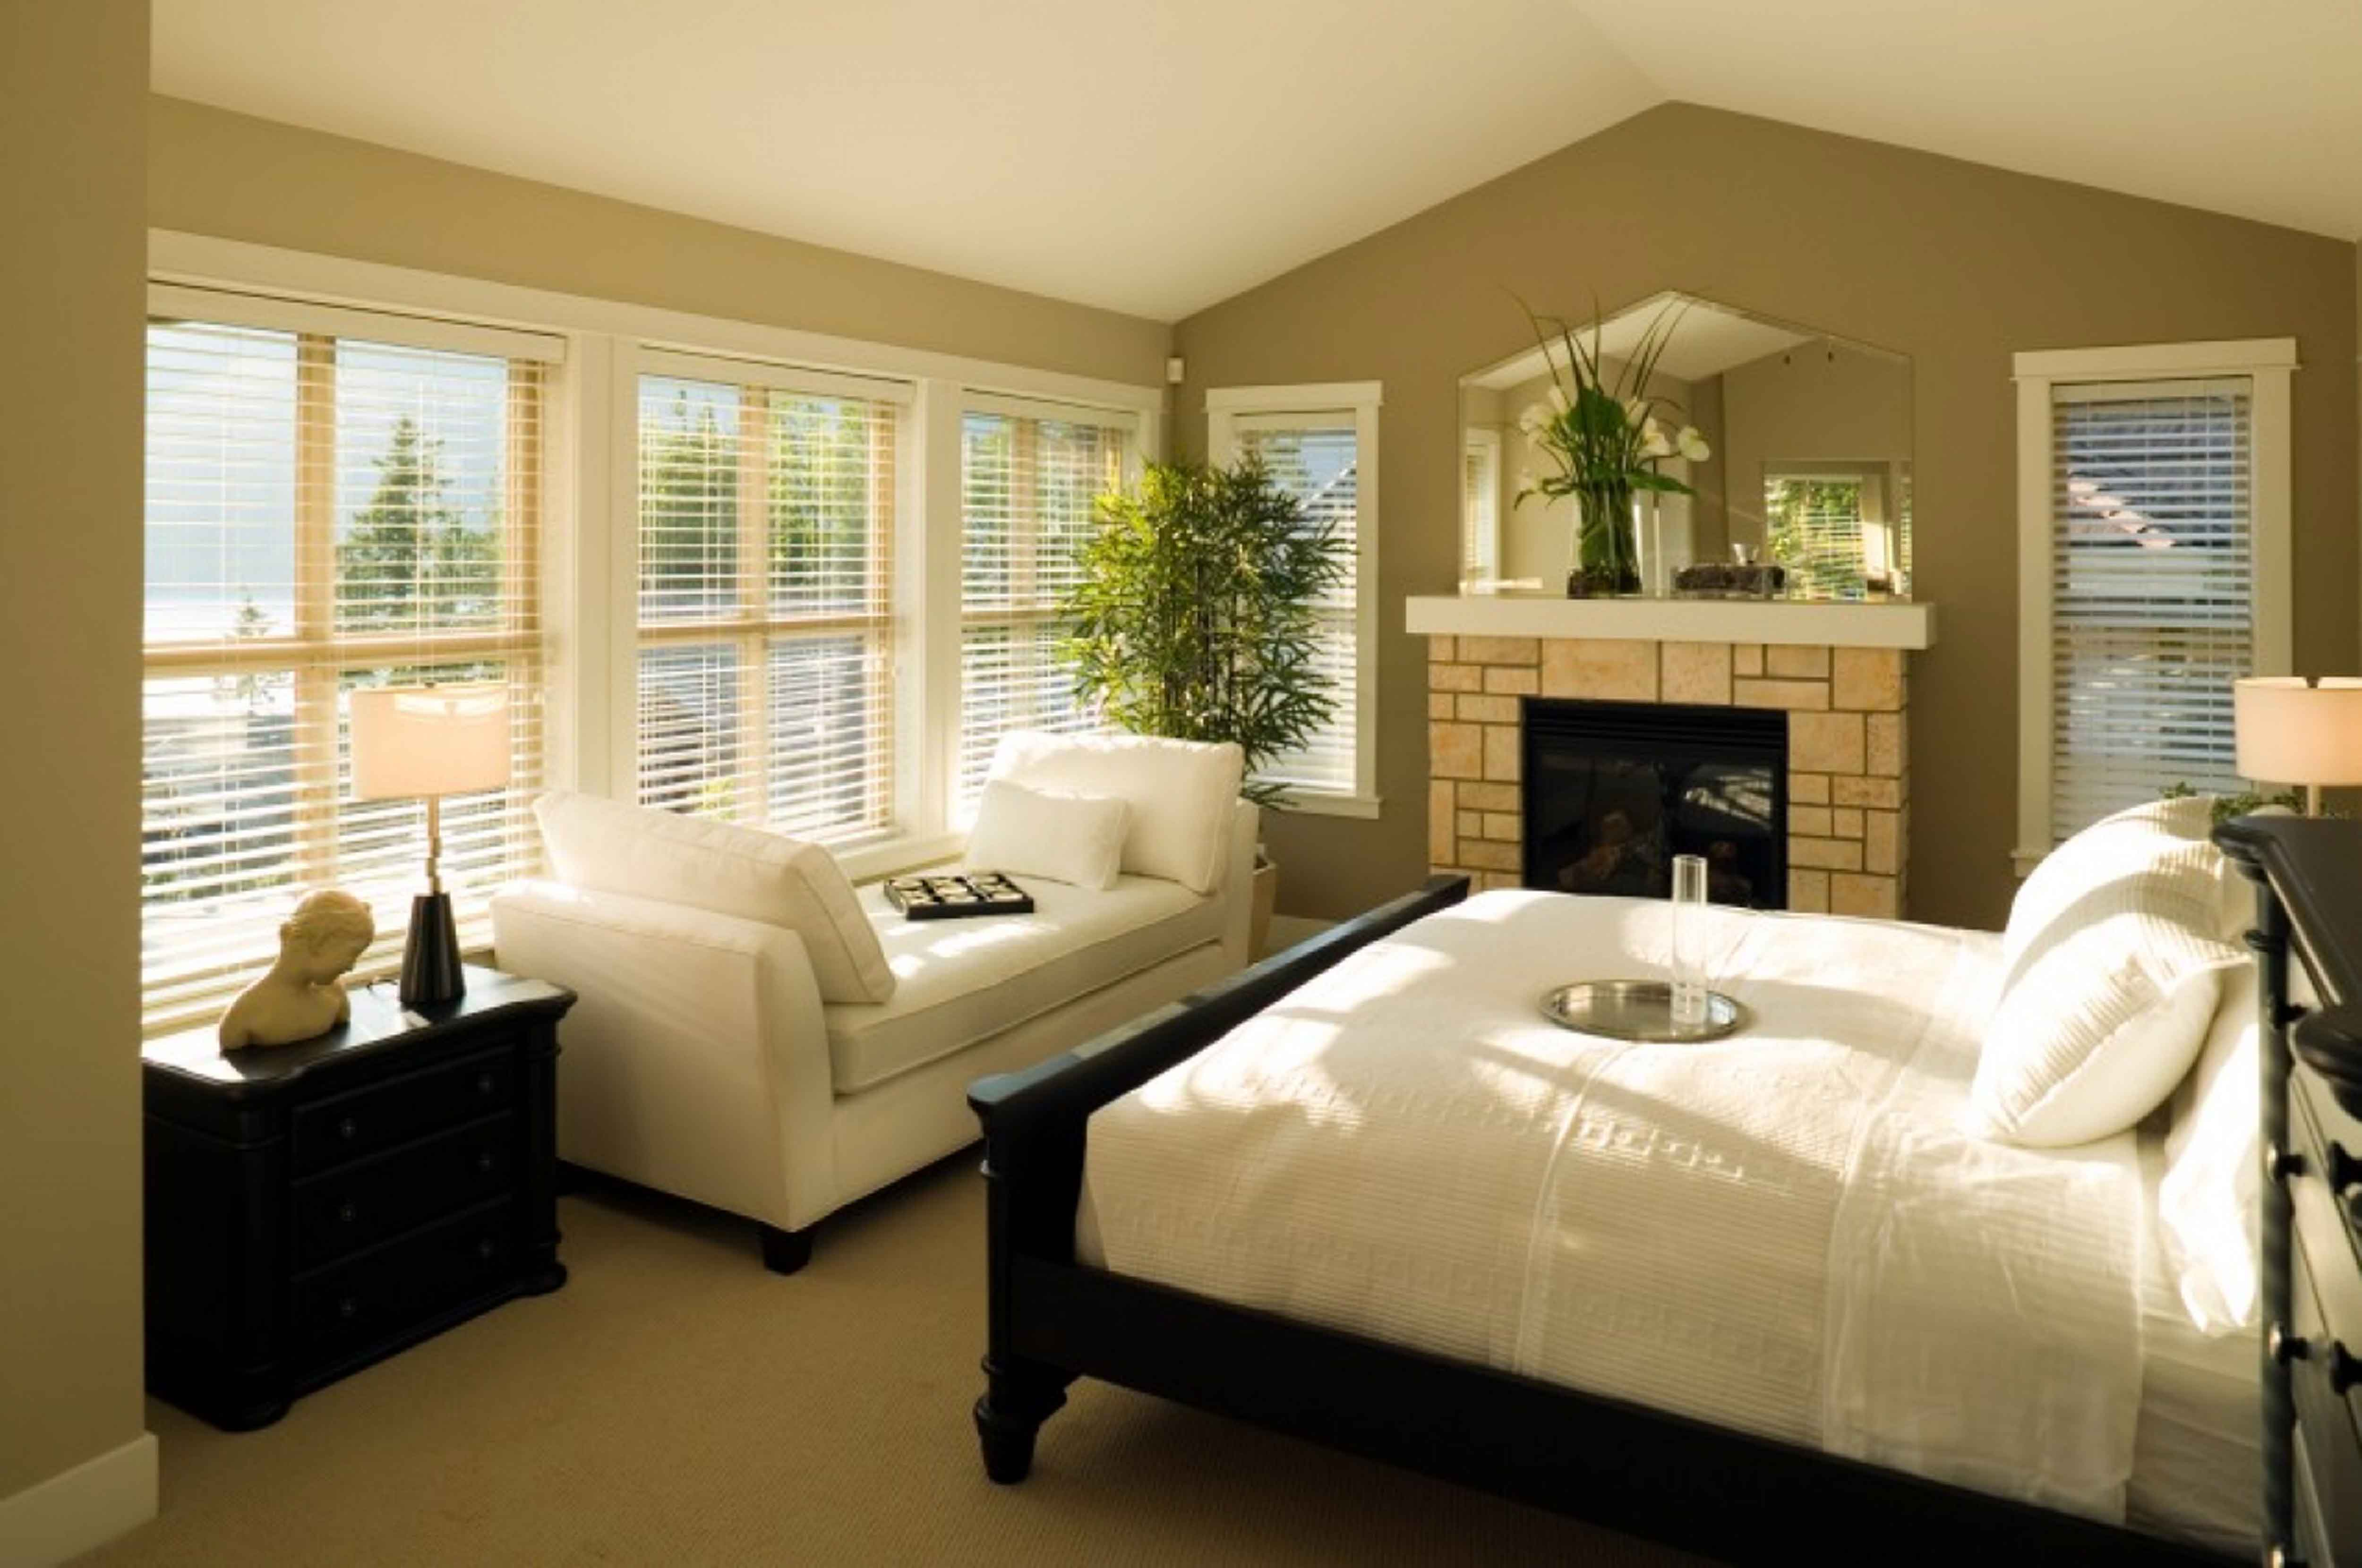chairs: (464, 731, 1314, 1262)
